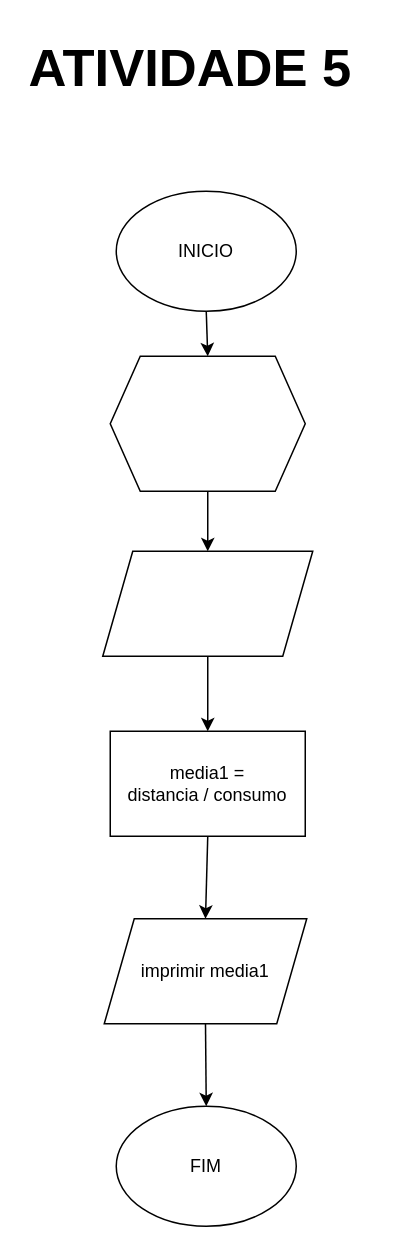
This 396x1253 diagram has some shape labels left out. Here are the shapes that lost their labels. From the top down, the centre of each, then its label:
(207,423): distancia = 500 consumo = 40 media1 =
(207,603): ler distancia consumo
